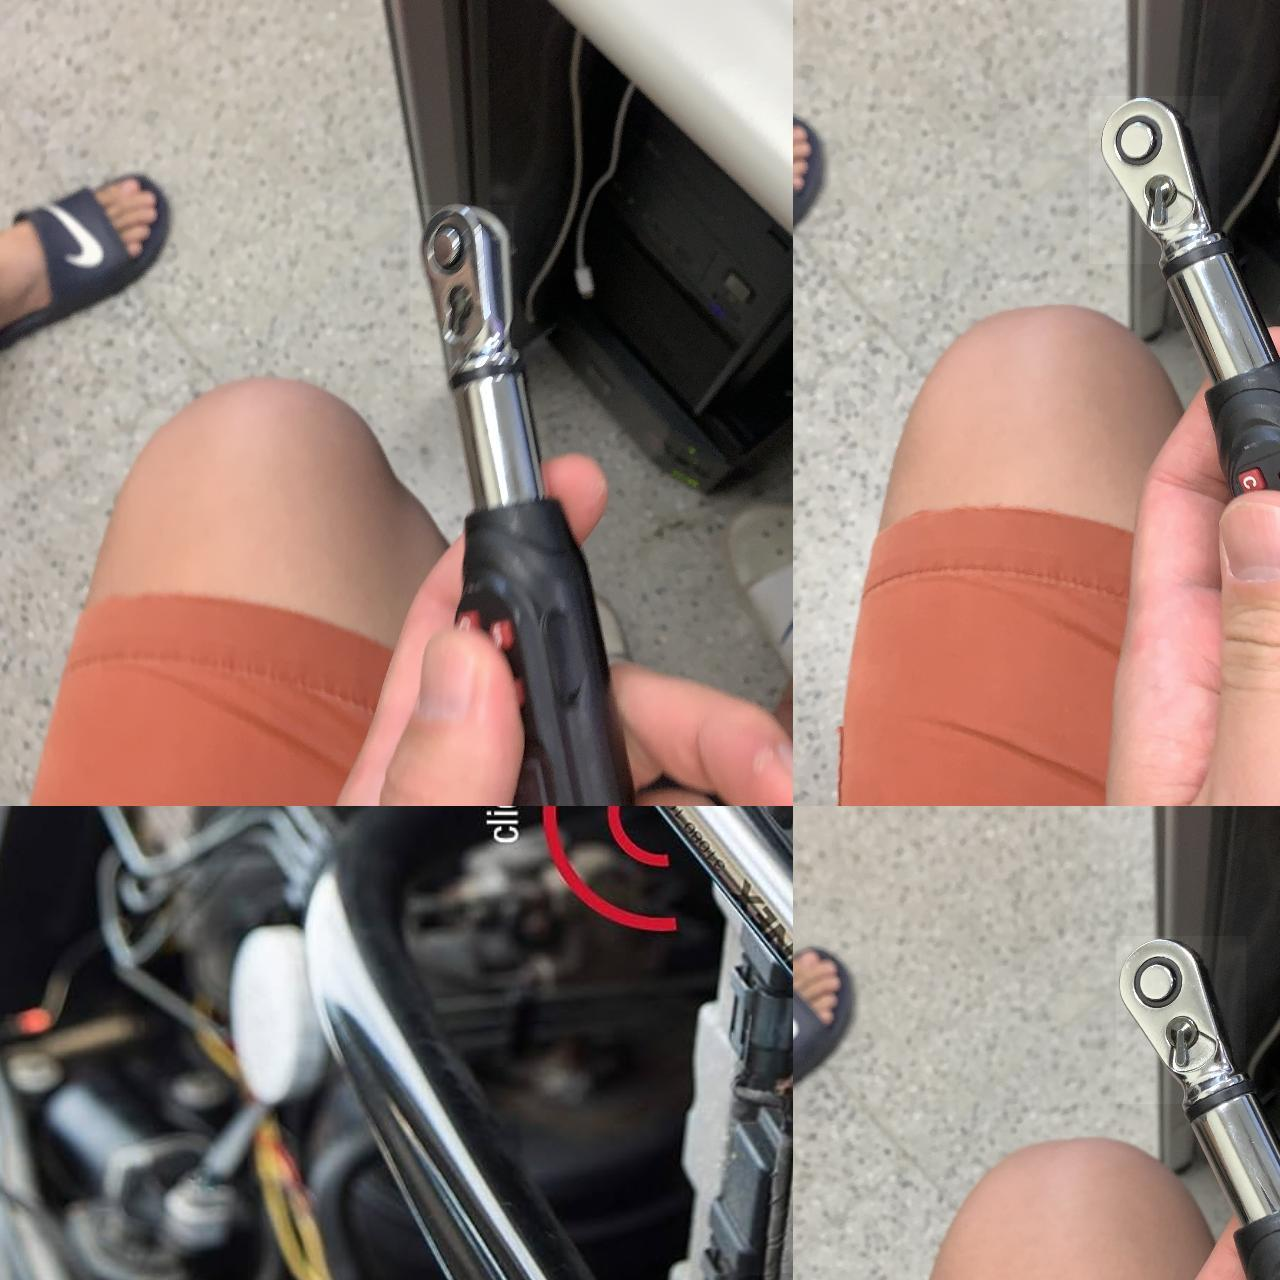Tool: (1088, 96, 1218, 264), (1115, 937, 1245, 1104), (409, 205, 513, 365)
